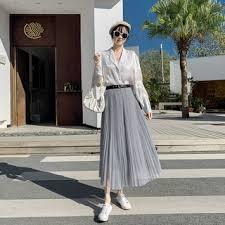shirt: (91, 48, 148, 103)
skirt: (99, 83, 160, 191)
